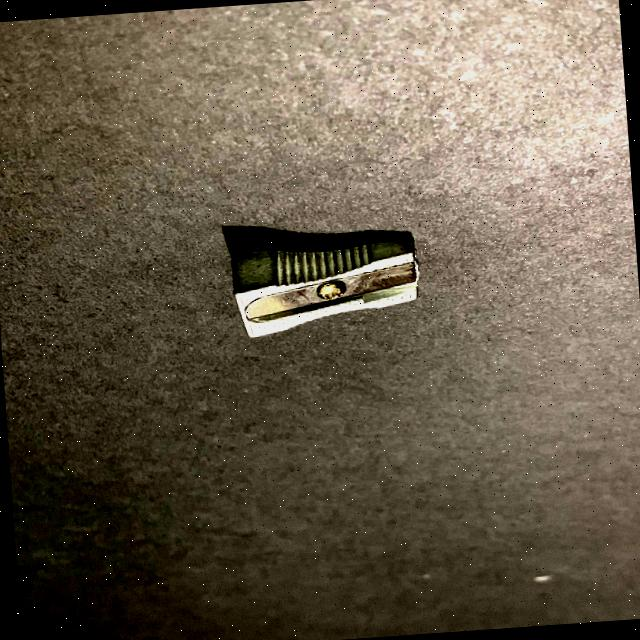Sharpner: (205, 211, 461, 369)
